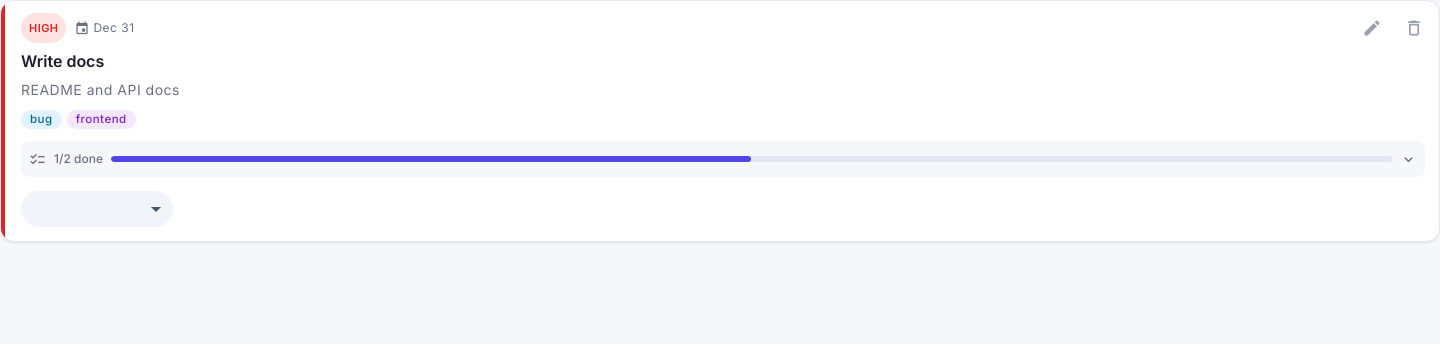
Scenario: TaskCardComponent › shows labels and checklist progress, and expands the checklist
Click the button with test id "checklist-progress": (723, 159) [21,141,1425,177]
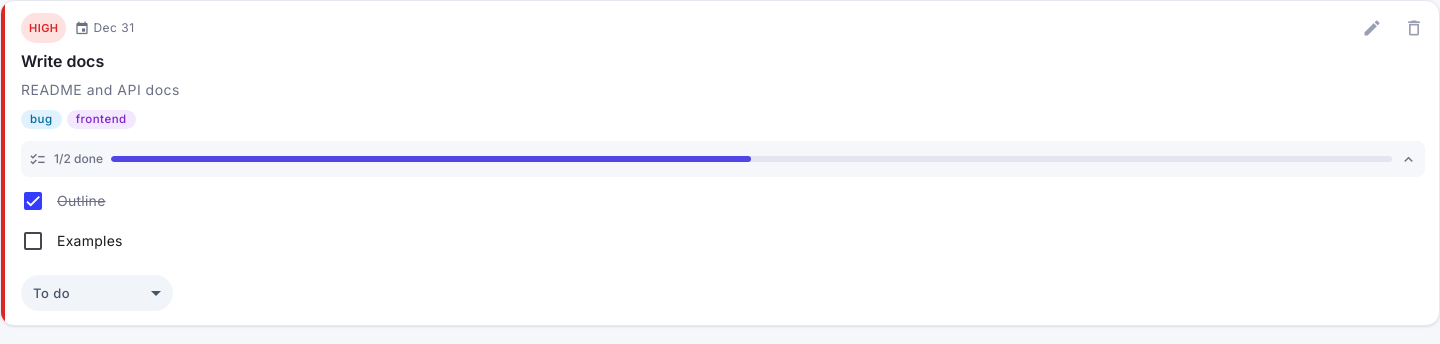
Expected: the number of elements with test id "checklist-item" is 2, [24,192,106,210]; [24,232,123,250]
